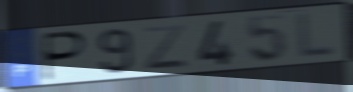4: (196, 18, 237, 68)
5: (243, 12, 290, 64)
9: (96, 27, 134, 76)
L: (297, 11, 338, 61)
P: (42, 30, 90, 83)
Z: (142, 22, 191, 71)
